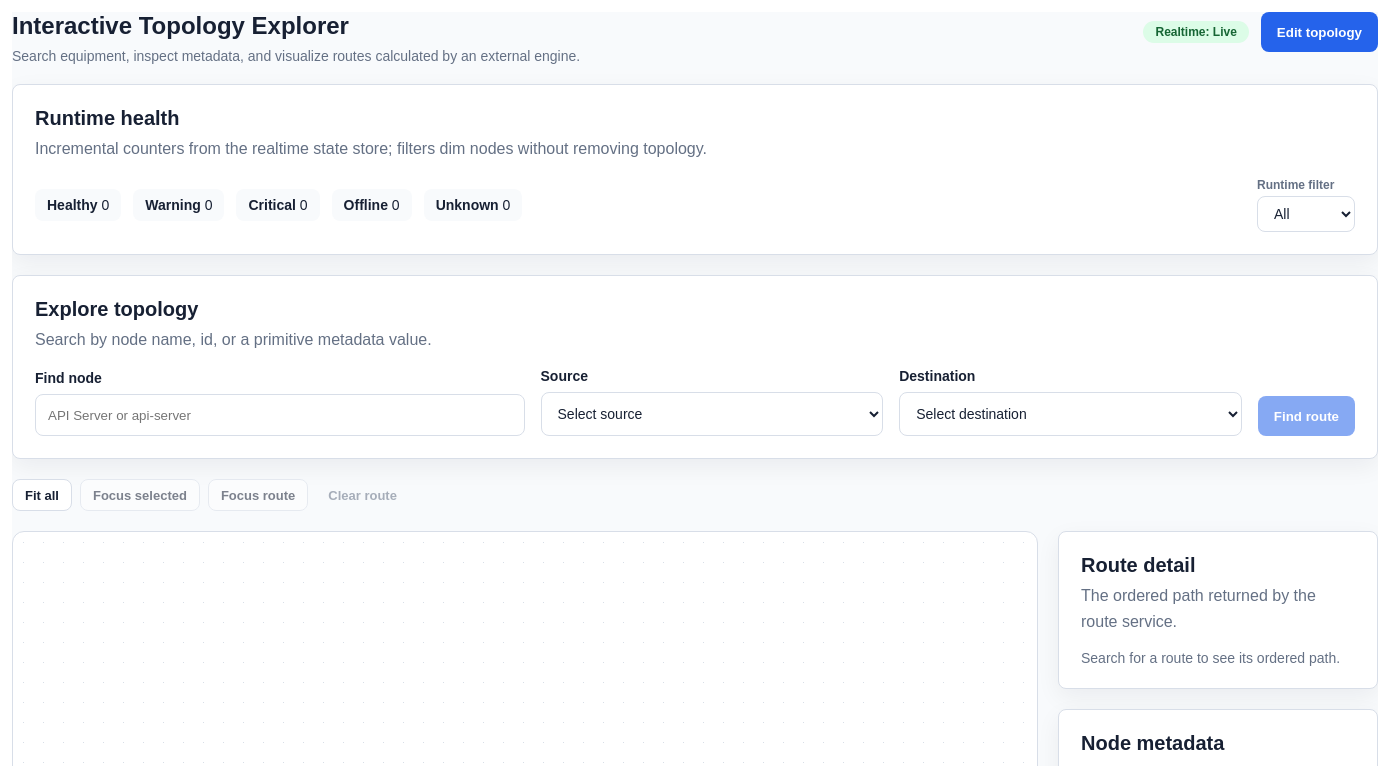
GraphViewerContainer › shows loading while a delayed route request is pending
The image size is (1390, 766).
Select "Core Router" in the dropdown labelled "Source" at (712, 414), box [540,392,883,436]
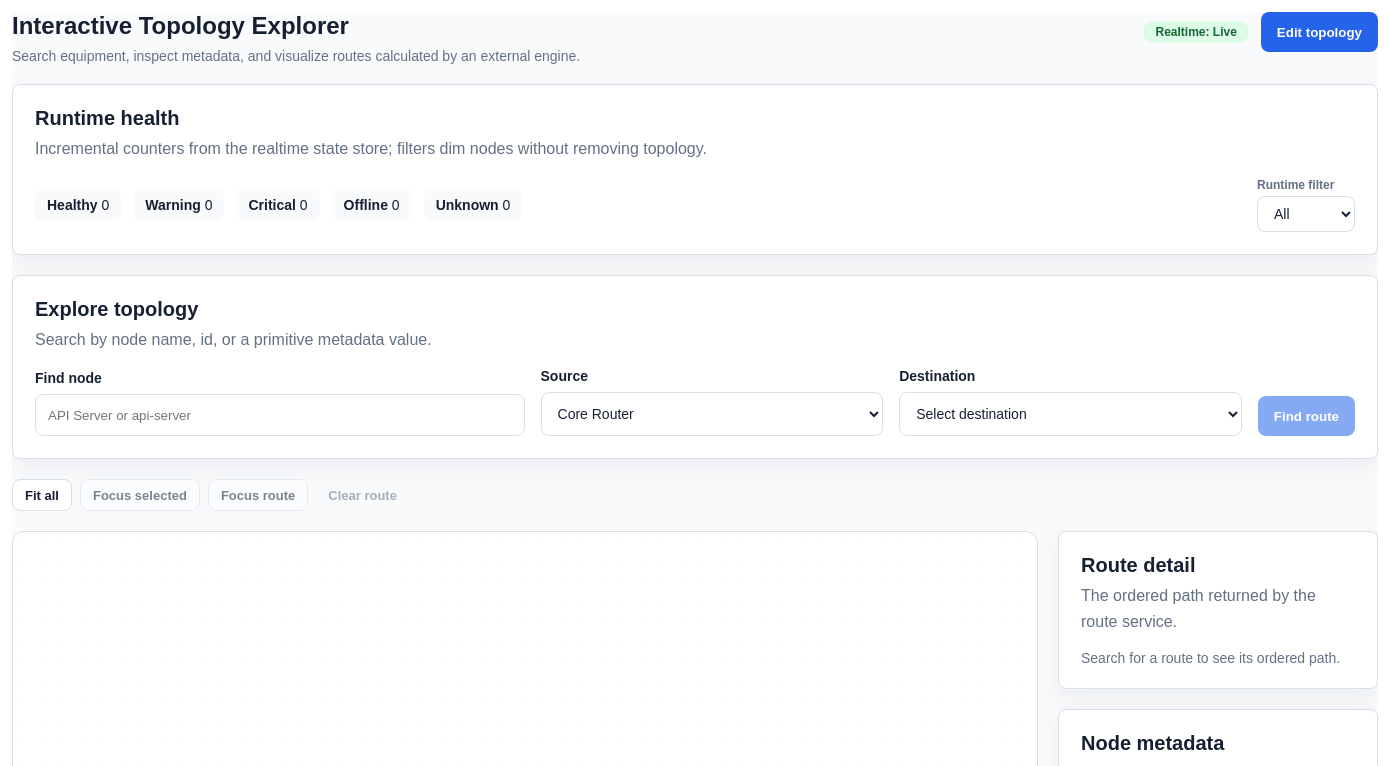
Select "API Server" in the dropdown labelled "Destination" at (1071, 414), box [899,392,1242,436]
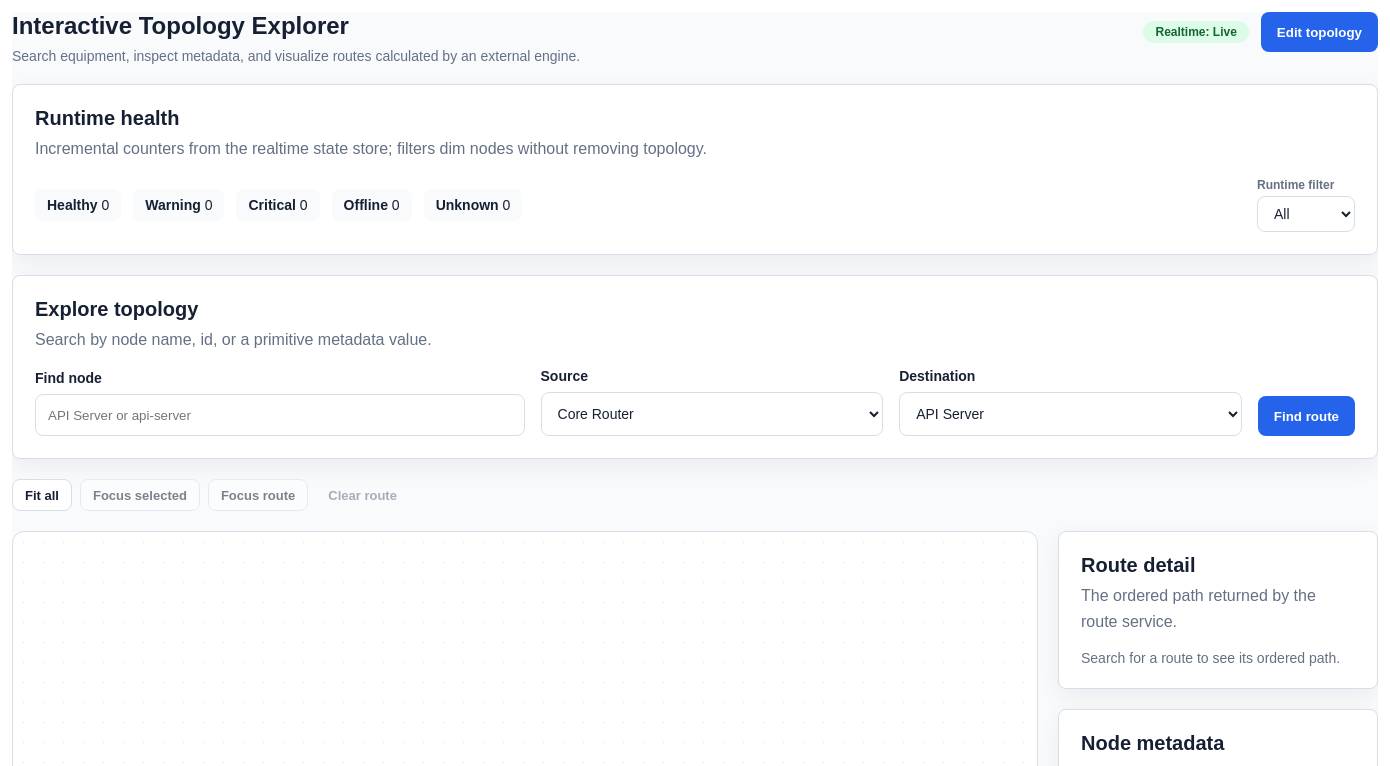
Click the button "Find route" at (1306, 416), box [1258,396,1355,436]
Wait 1000 ms
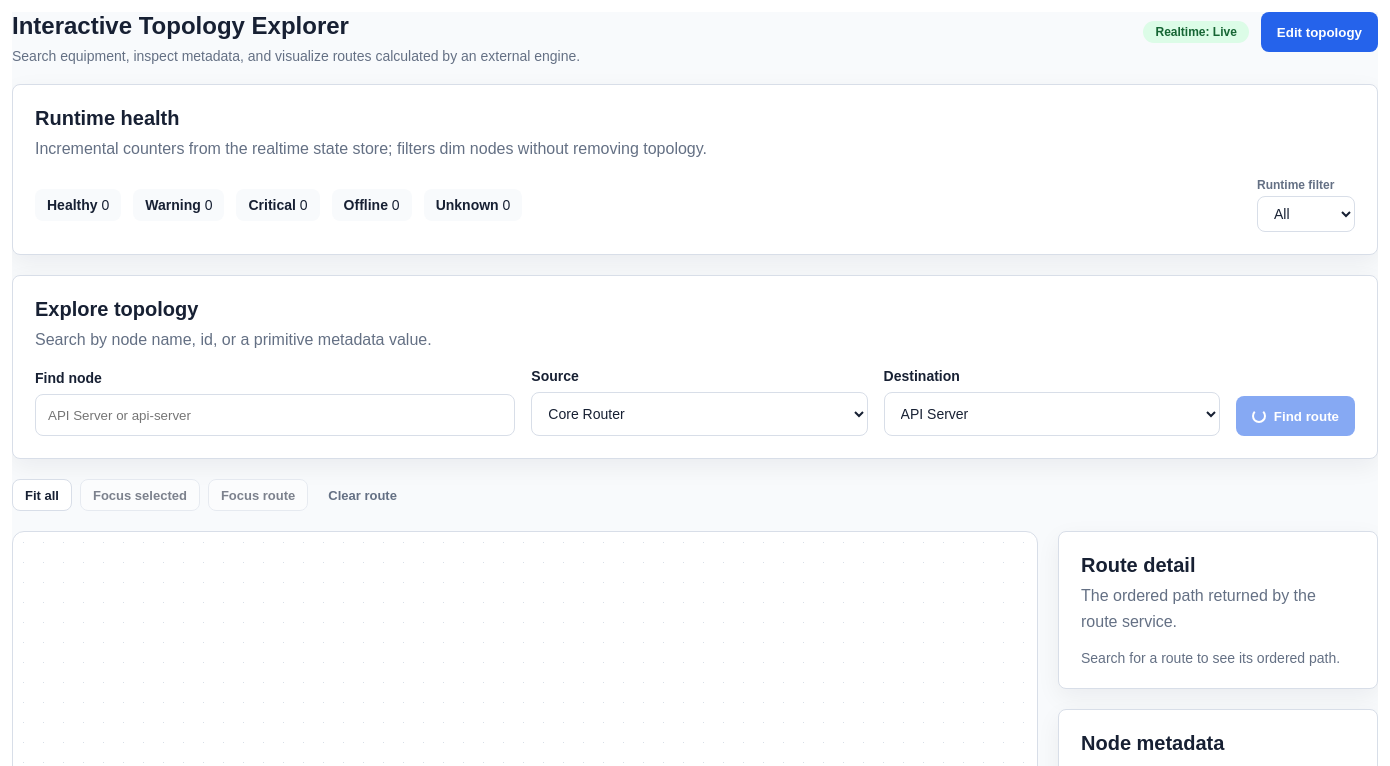
Expected: the button "Find route" is disabled, [1236,396,1355,436]
